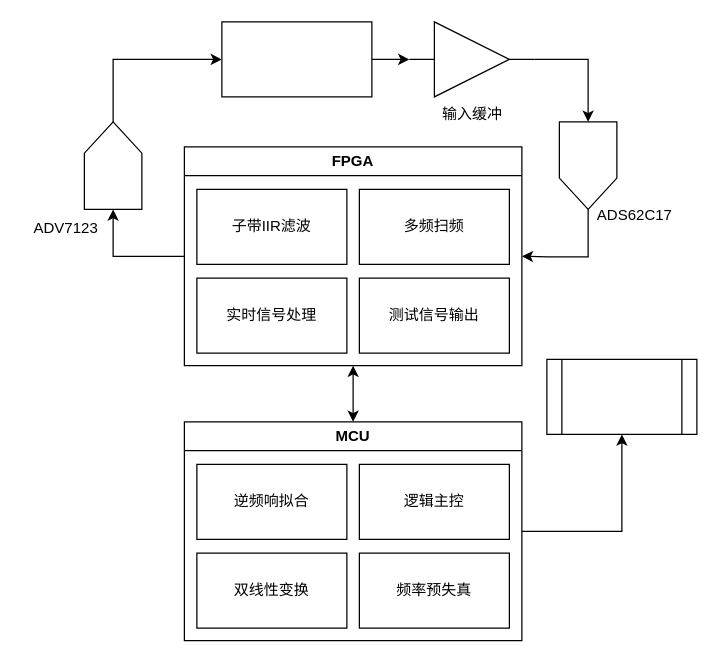
Image size: 719x663. Some labels were removed from this diagram. Each missing label, with the centre of its shape:
待测系统: the point at 296,59
显示屏: the point at 621,396
